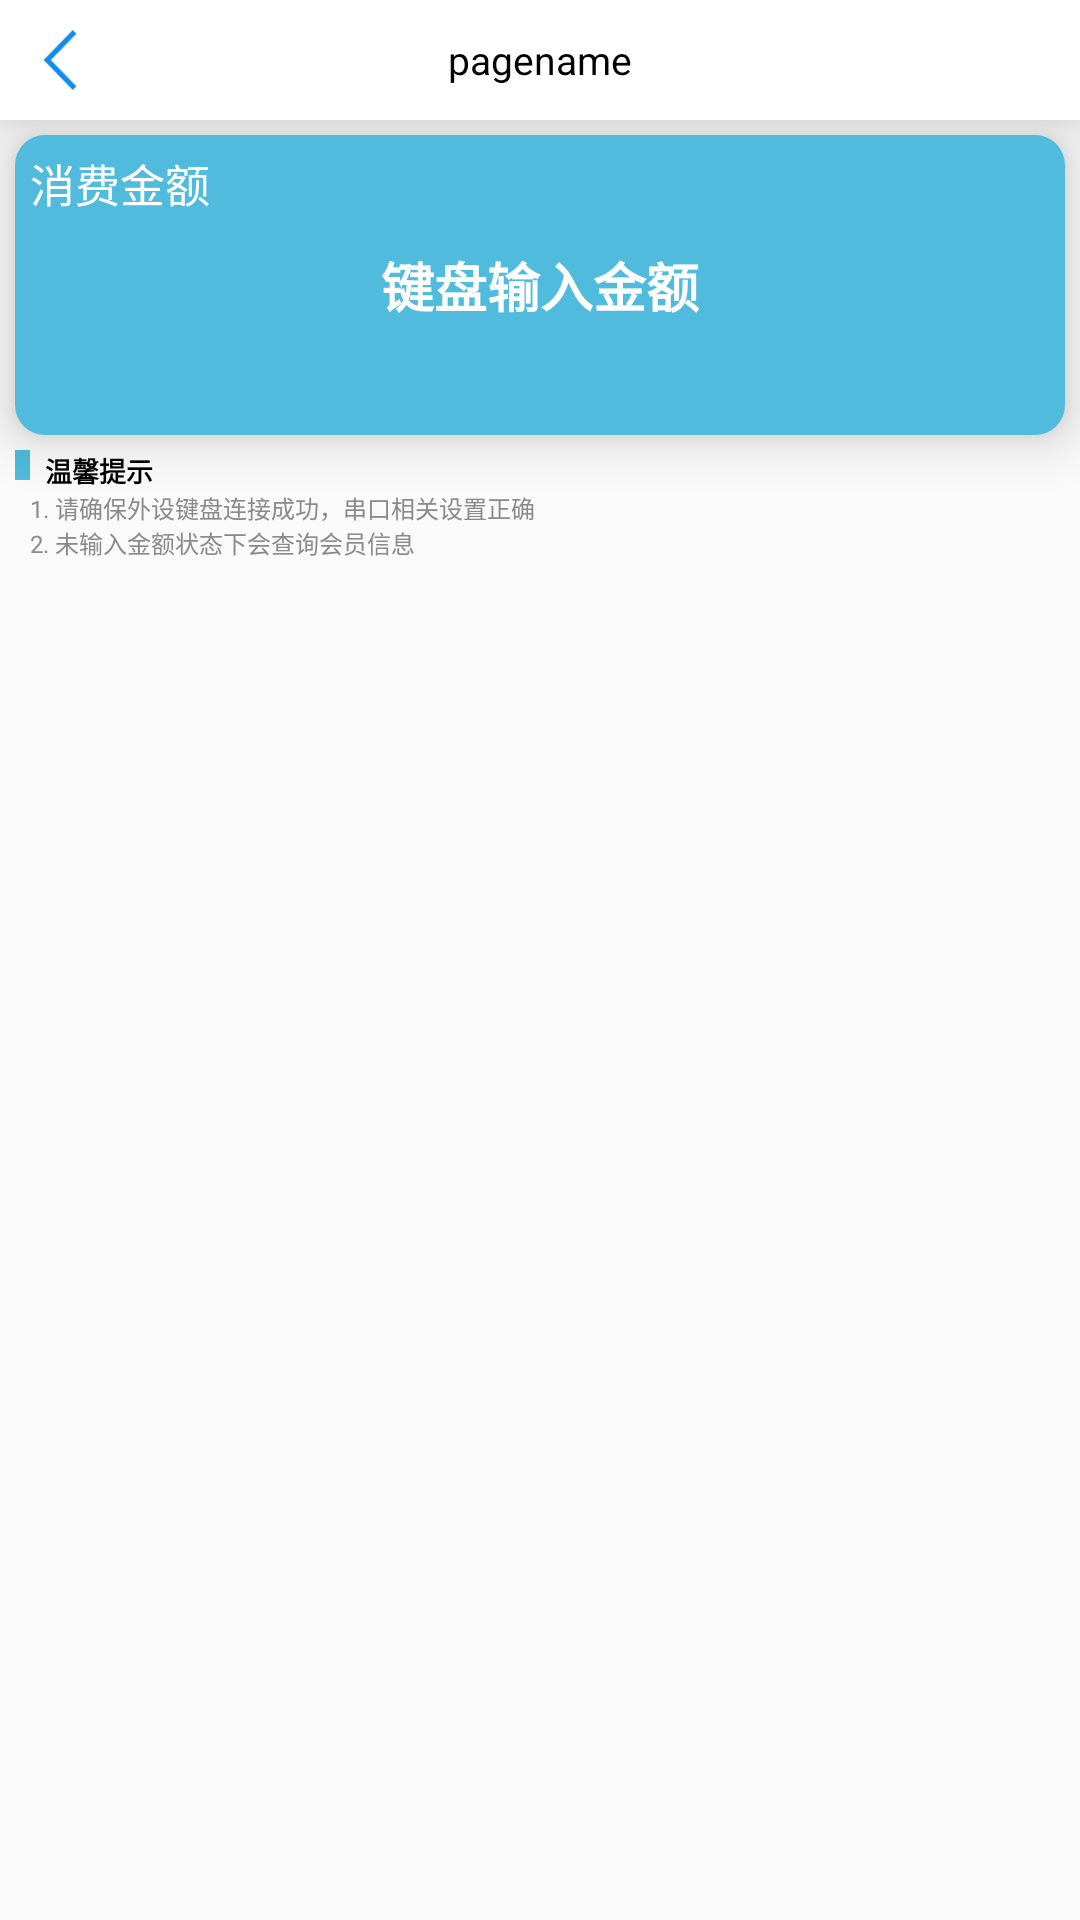

Icon click points for this 1080x1920 phone screenshot, format [x,y]:
fanhui: [60,60]
